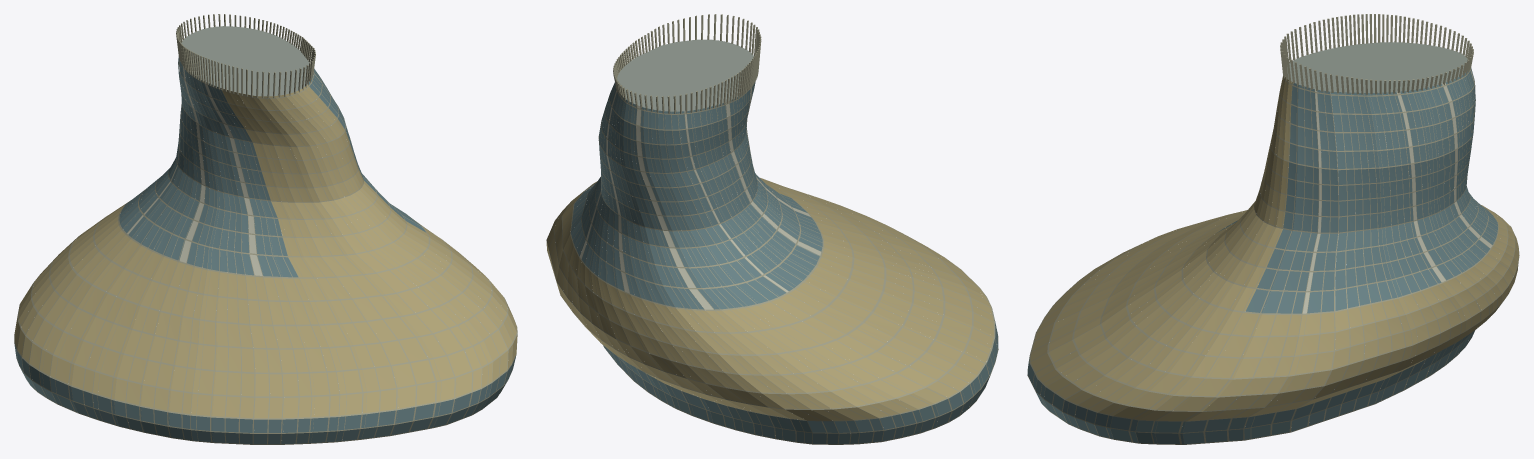
File: cite-du-vin-bordeaux-near.glb
The picture shows the model from 3 angles, left to right: view 1: azimuth 30°, elevation 25°; view 2: azimuth 150°, elevation 25°; view 3: azimuth 270°, elevation 25°; orthographic projection. The views are drawn at different scales.
Parts seen in each view (by area): view 1: cite-du-vin-bordeaux-0-gold, cite-du-vin-bordeaux-0-rib, cite-du-vin-bordeaux-0-glass, cite-du-vin-bordeaux-0-roof, cite-du-vin-bordeaux-0-silver; view 2: cite-du-vin-bordeaux-0-gold, cite-du-vin-bordeaux-0-glass, cite-du-vin-bordeaux-0-rib, cite-du-vin-bordeaux-0-roof, cite-du-vin-bordeaux-0-silver; view 3: cite-du-vin-bordeaux-0-gold, cite-du-vin-bordeaux-0-glass, cite-du-vin-bordeaux-0-rib, cite-du-vin-bordeaux-0-roof, cite-du-vin-bordeaux-0-silver.
Boxes of the visible parts, left/top/right/bottom form: cite-du-vin-bordeaux-0-gold: left=14, top=84, right=517, bottom=418; cite-du-vin-bordeaux-0-rib: left=14, top=14, right=517, bottom=444; cite-du-vin-bordeaux-0-glass: left=14, top=57, right=515, bottom=444; cite-du-vin-bordeaux-0-roof: left=181, top=26, right=309, bottom=96; cite-du-vin-bordeaux-0-silver: left=127, top=67, right=328, bottom=275; cite-du-vin-bordeaux-0-gold: left=546, top=178, right=993, bottom=420; cite-du-vin-bordeaux-0-glass: left=571, top=82, right=998, bottom=444; cite-du-vin-bordeaux-0-rib: left=546, top=14, right=998, bottom=444; cite-du-vin-bordeaux-0-roof: left=617, top=39, right=753, bottom=111; cite-du-vin-bordeaux-0-silver: left=575, top=87, right=820, bottom=309; cite-du-vin-bordeaux-0-gold: left=1030, top=76, right=1519, bottom=421; cite-du-vin-bordeaux-0-glass: left=1027, top=68, right=1497, bottom=444; cite-du-vin-bordeaux-0-rib: left=1027, top=14, right=1519, bottom=444; cite-du-vin-bordeaux-0-roof: left=1285, top=42, right=1468, bottom=92; cite-du-vin-bordeaux-0-silver: left=1302, top=69, right=1492, bottom=313.
Bounding box in the file's own units: 80.81 × 55.01 × 76.51.
